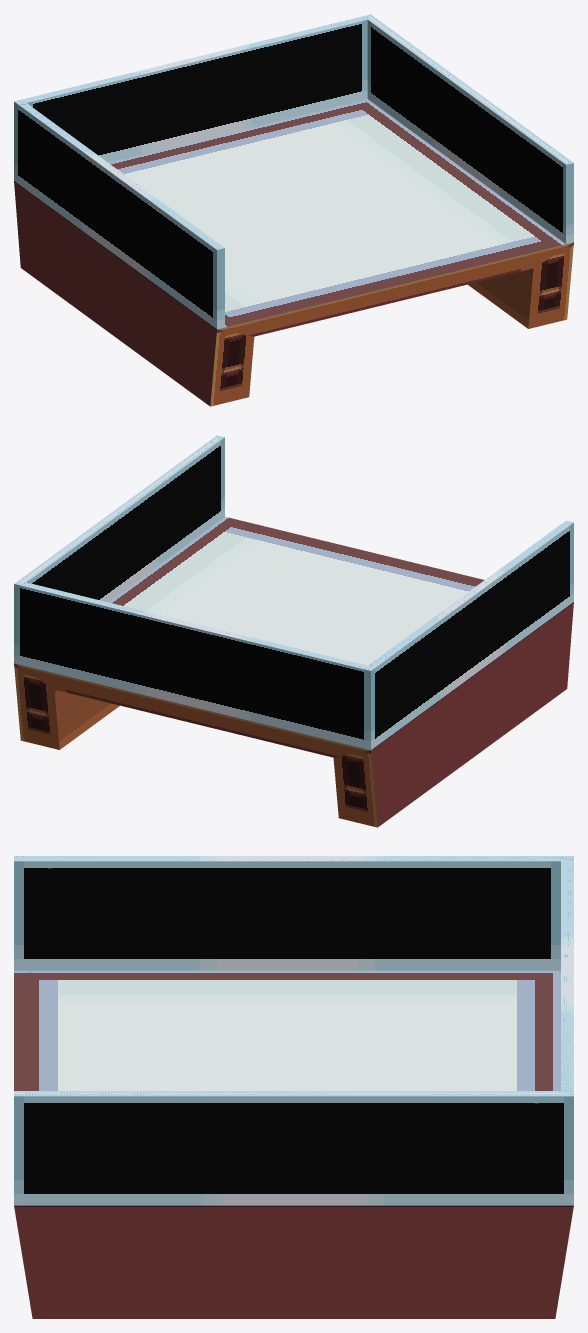
3 renders of one model, top to bottom at view 1: azimuth 30°, elevation 25°; view 2: azimuth 150°, elevation 25°; view 3: azimuth 270°, elevation 25°, orthographic. The views are drawn at different scales.
Parts seen in each view (by area): view 1: 3874kg3case02; view 2: 3874kg3case02; view 3: 3874kg3case02.
Boxes of the visible parts, left/top/right/bottom form: 3874kg3case02: left=14, top=14, right=573, bottom=406; 3874kg3case02: left=14, top=435, right=573, bottom=827; 3874kg3case02: left=14, top=856, right=573, bottom=1318.
Bounding box in the file's own units: 2 × 0.865 × 1.97.
Materials: 3 (3 with a texture image).
